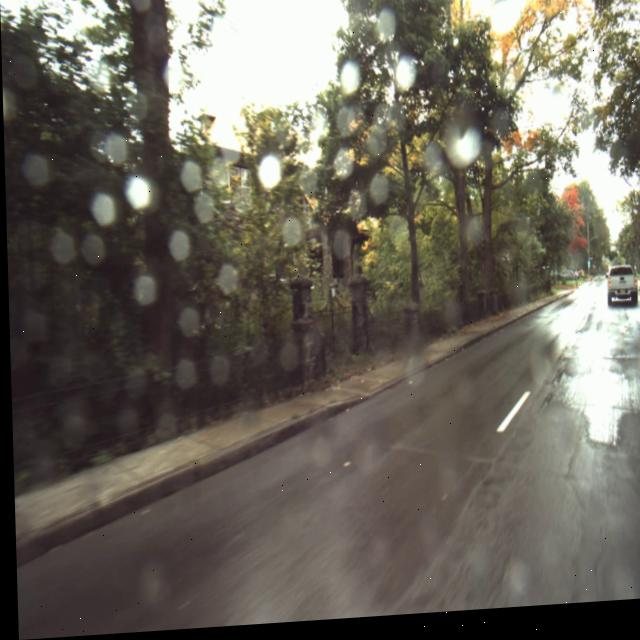car: (604, 274, 636, 316)
